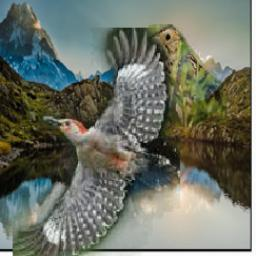Sparrow: (149, 24, 227, 137)
Woodpecker: (12, 28, 179, 256)
